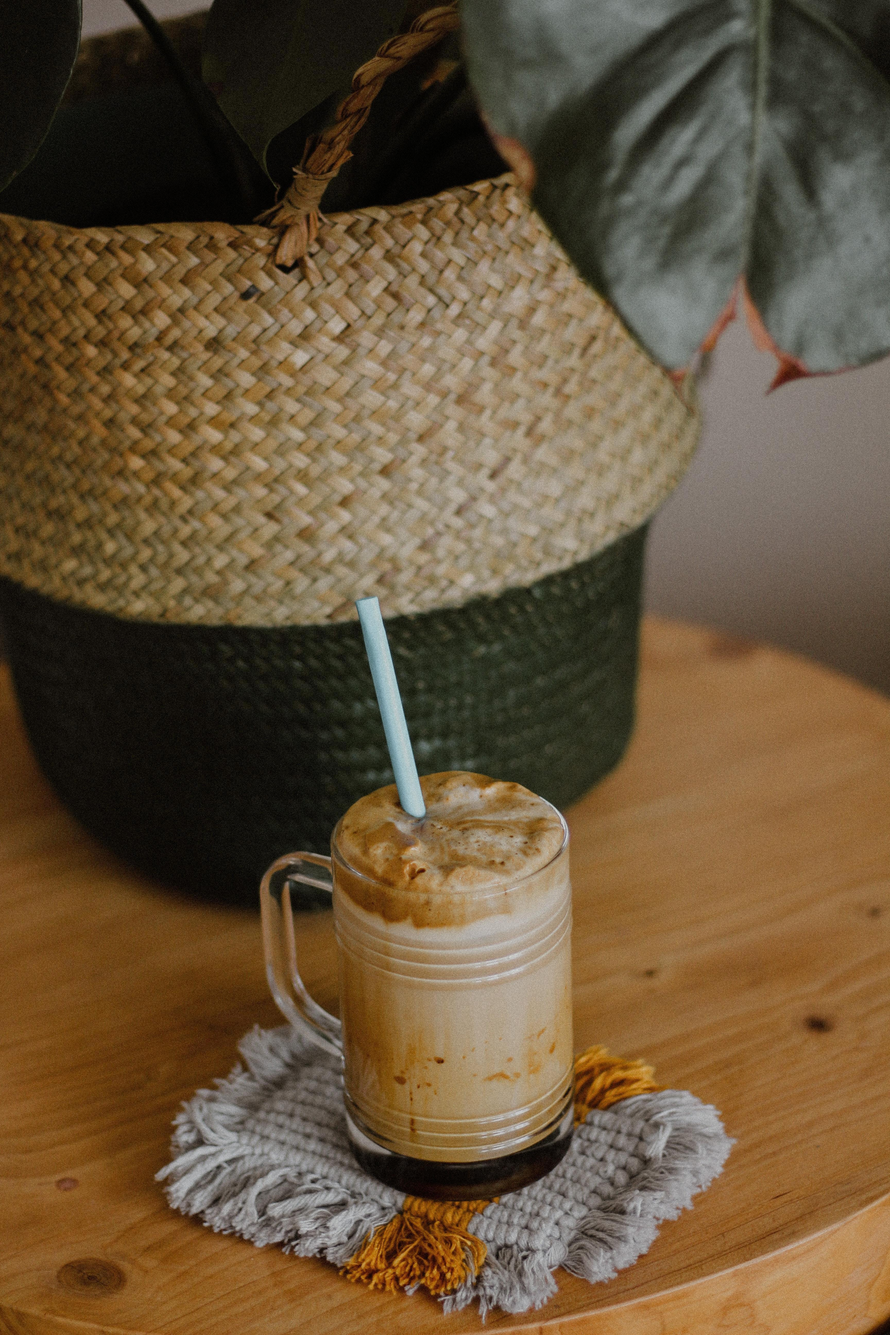glass-mug: (255, 762, 583, 1200)
